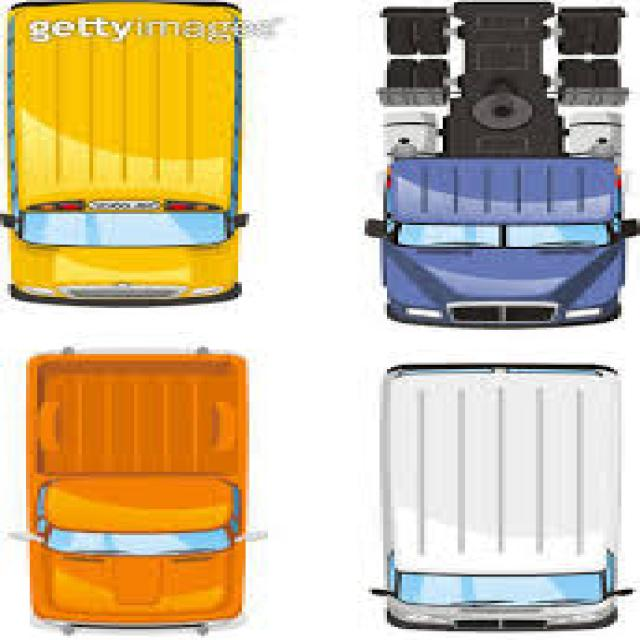truck: (8, 2, 236, 303), (372, 365, 621, 629), (25, 349, 254, 631)
